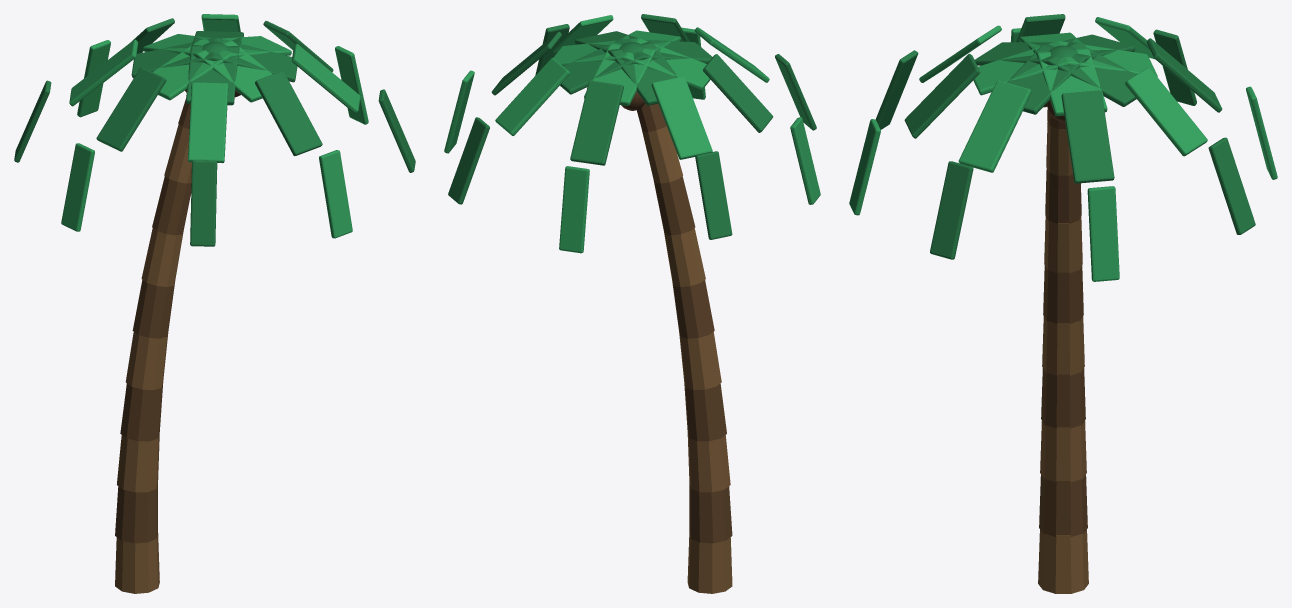
File: palm_tree.glb
The picture shows the model from 3 angles, left to right: view 1: azimuth 30°, elevation 25°; view 2: azimuth 150°, elevation 25°; view 3: azimuth 270°, elevation 25°; orthographic projection. The views are drawn at different scales.
Visible parts, largest first — view 1: leaf51, leaf61, leaf41, leaf52, trunk0, trunk1, trunk2, trunk3, trunk4, leaf62, trunk5, leaf42 (+19 smaller); view 2: leaf21, leaf31, trunk0, leaf11, trunk1, leaf22, leaf32, trunk2, trunk3, leaf41, trunk4, trunk5 (+21 smaller); view 3: leaf01, leaf71, leaf11, trunk0, leaf02, trunk1, leaf72, trunk2, trunk3, trunk4, leaf61, trunk5 (+20 smaller).
Boxes of the visible parts, x1,y1,x2,y2 form: leaf51: (188,82,228,163); leaf61: (255,71,322,156); leaf41: (96,67,166,151); leaf52: (190,160,217,246); trunk0: (115,533,159,593); trunk1: (115,484,157,543); trunk2: (117,434,159,492); trunk3: (120,383,162,441); trunk4: (125,332,168,389); leaf62: (319,150,352,238); trunk5: (132,280,174,338); leaf42: (61,143,94,231); leaf21: (570,80,623,165); leaf31: (651,76,712,159); trunk0: (687,533,732,593); leaf11: (495,58,570,135); trunk1: (689,483,732,543); leaf22: (559,166,589,253); leaf32: (695,151,732,239); trunk2: (687,433,730,492); trunk3: (684,383,726,441); leaf41: (703,54,773,132); trunk4: (679,332,721,389); trunk5: (672,280,714,338); leaf01: (1061,90,1114,183); leaf71: (958,80,1031,172); leaf11: (1125,67,1207,156); trunk0: (1038,529,1088,593); leaf02: (1087,186,1119,281); trunk1: (1039,475,1087,536); leaf72: (930,161,973,259); trunk2: (1040,421,1086,482); trunk3: (1041,367,1085,428); trunk4: (1042,316,1084,375); leaf61: (904,53,980,138); trunk5: (1043,265,1083,323).
Bounding box in the file's own units: 3.37 × 5.01 × 3.37.
